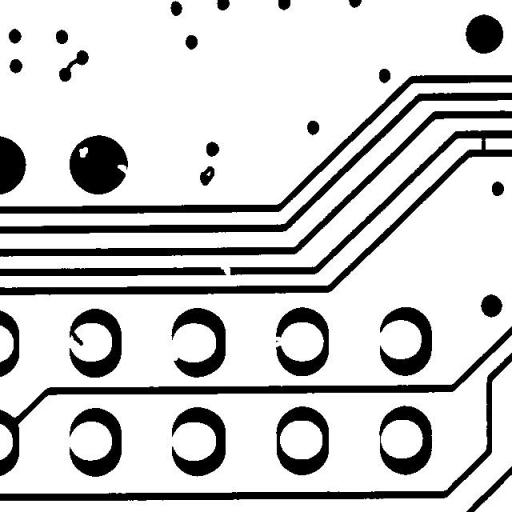copper: (192, 158, 222, 193)
mousebite: (110, 156, 138, 186), (161, 337, 187, 368)
open: (265, 329, 292, 355), (212, 257, 238, 283)
pin-hole: (71, 139, 95, 165)
short: (54, 50, 88, 84), (474, 127, 492, 161)
spur: (62, 318, 90, 352)
